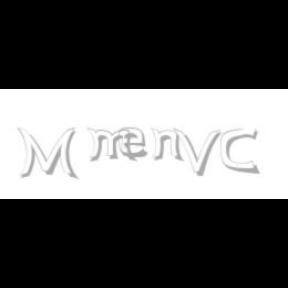C: (220, 128, 258, 174)
M: (18, 128, 76, 180)
V: (173, 128, 221, 176)
e: (118, 128, 152, 158)
m: (86, 128, 138, 162)
n: (150, 128, 184, 162)
